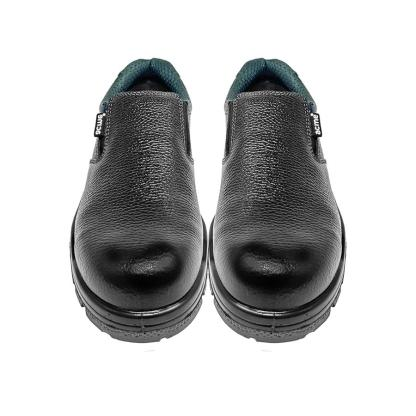bota: (67, 55, 208, 344), (209, 54, 348, 345)
